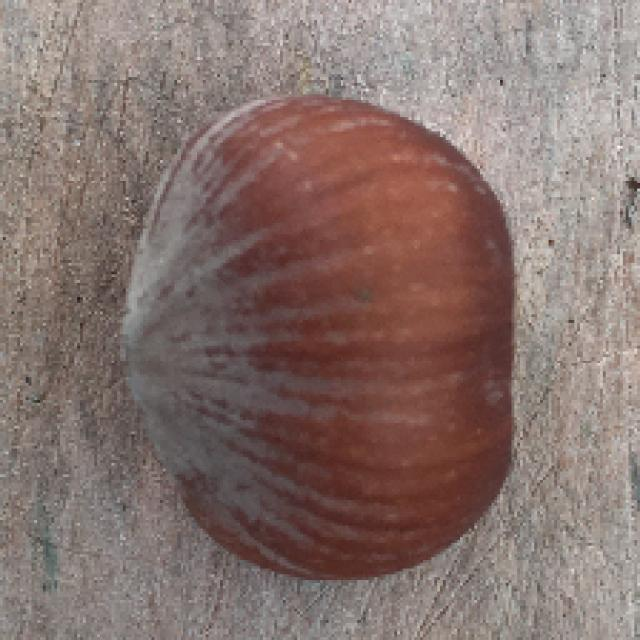qualityHazelnut: (114, 95, 524, 584)
